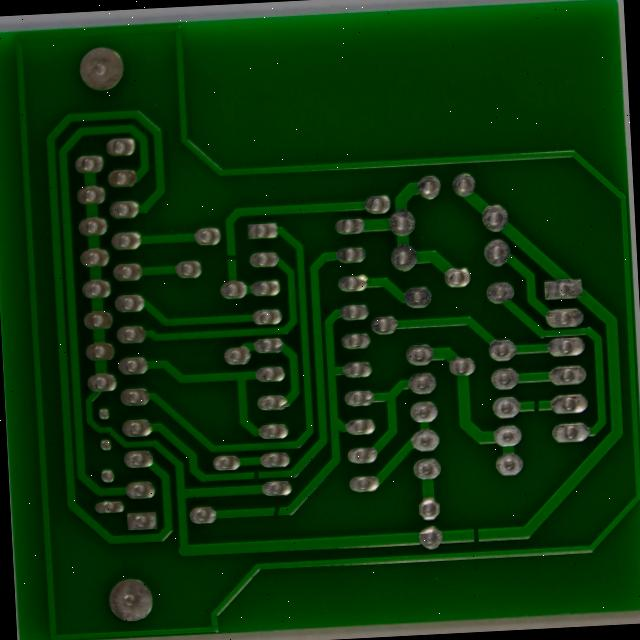open_circuit: (451, 511, 467, 542), (227, 492, 247, 513), (178, 214, 199, 234), (515, 375, 533, 395), (207, 451, 222, 469)
